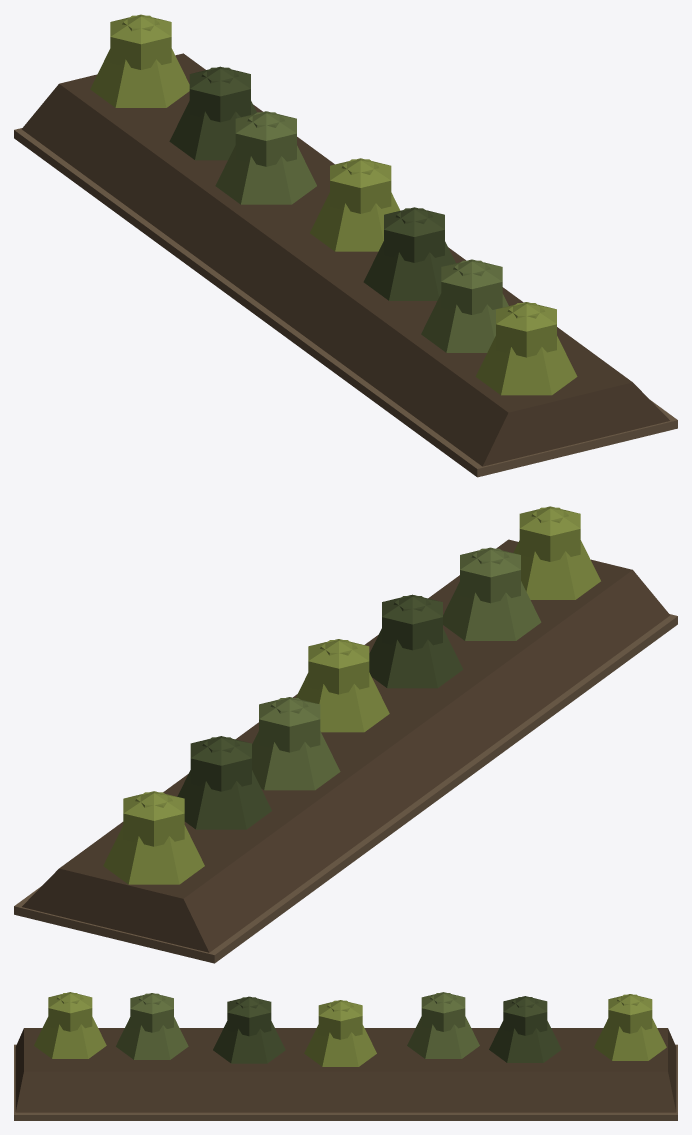
File: crop_herbs_s2.glb
The picture shows the model from 3 angles, top to bottom: view 1: azimuth 30°, elevation 25°; view 2: azimuth 150°, elevation 25°; view 3: azimuth 270°, elevation 25°; orthographic projection. The views are drawn at different scales.
Visible parts, largest first — view 1: crop_herbs_s2_mesh; view 2: crop_herbs_s2_mesh; view 3: crop_herbs_s2_mesh.
Part boxes in pixels (bbox=[...]): crop_herbs_s2_mesh: bbox=[14, 14, 677, 477]; crop_herbs_s2_mesh: bbox=[14, 506, 677, 963]; crop_herbs_s2_mesh: bbox=[14, 992, 677, 1120].
Bounding box in the file's own units: 0.5 × 0.2936 × 2.
